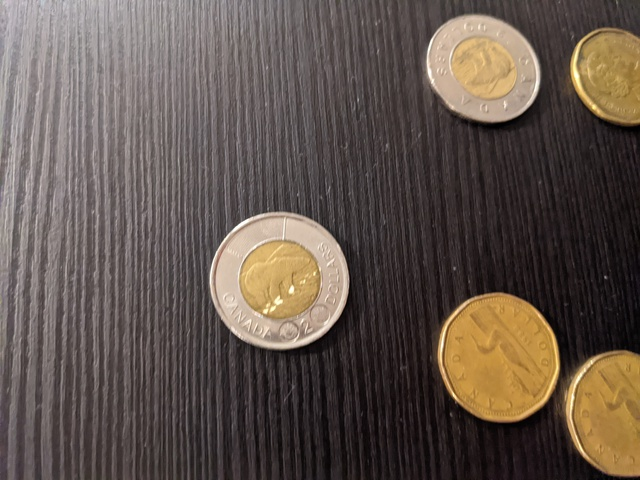loonie: (430, 273, 566, 426), (573, 327, 636, 473), (566, 16, 632, 145)
twonie: (192, 198, 374, 354), (404, 14, 555, 137)
